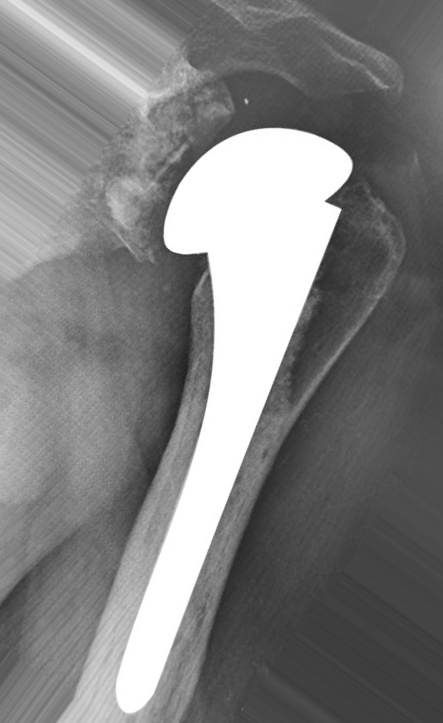Shoulder - Anotomyhead - Stryker: (155, 114, 362, 280)
Shoulder - Anotomytail - Stryker: (150, 174, 375, 414)
